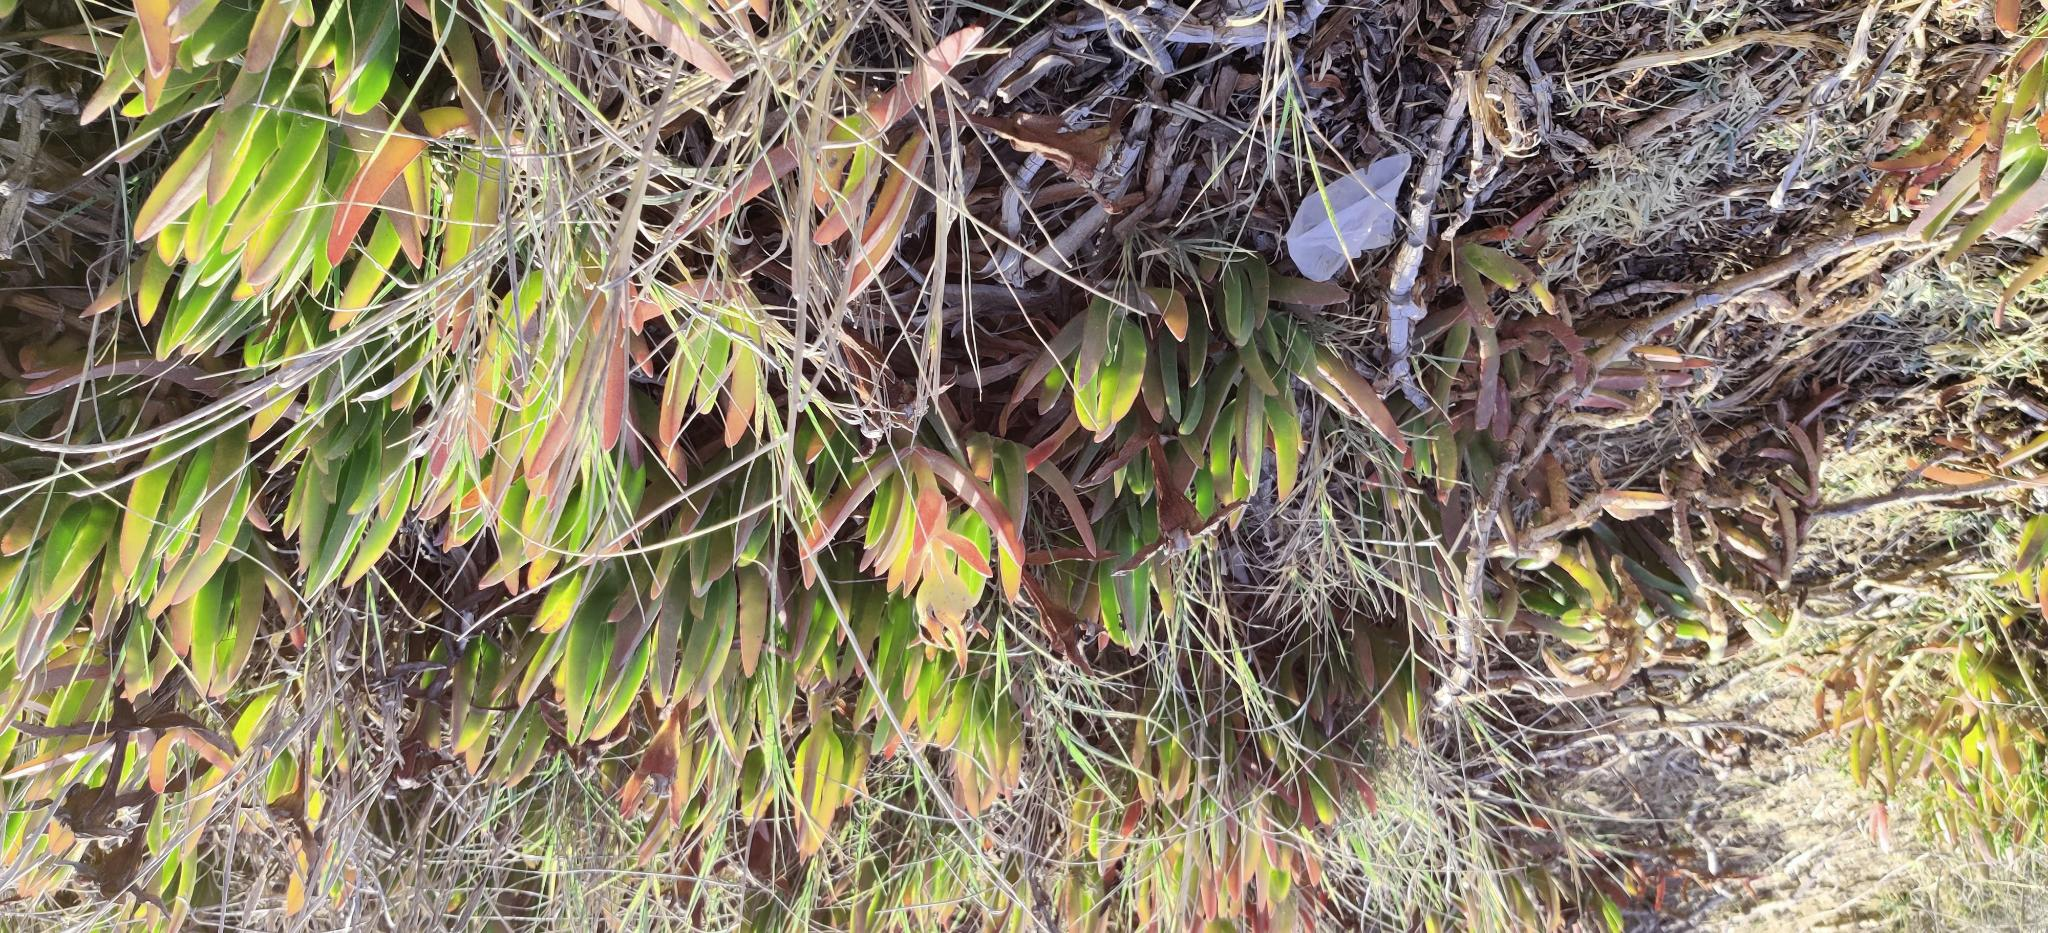Plastic: (1277, 141, 1430, 291)
